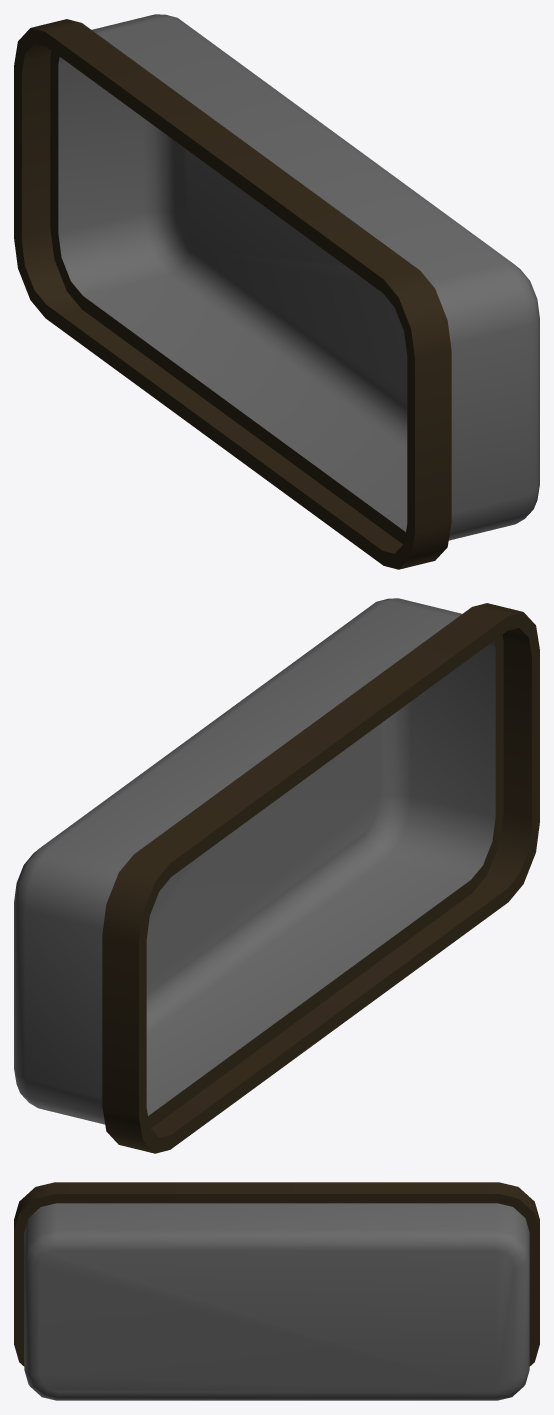
The model's file is Button_Green_Off.fbx.
3 views of the same model, one above another, from view 1: azimuth 30°, elevation 25°; view 2: azimuth 150°, elevation 25°; view 3: azimuth 270°, elevation 25° (orthographic). The views are drawn at different scales.
Visible parts, largest first — view 1: Button_Green_Off; view 2: Button_Green_Off; view 3: Button_Green_Off.
Part boxes in pixels (left/top/right/bottom): Button_Green_Off: left=14, top=14, right=539, bottom=569; Button_Green_Off: left=14, top=598, right=539, bottom=1153; Button_Green_Off: left=14, top=1182, right=539, bottom=1400.
Bounding box in the file's own units: 1.76 × 3.4 × 8.63.
Materials: 1 (1 with a texture image).
